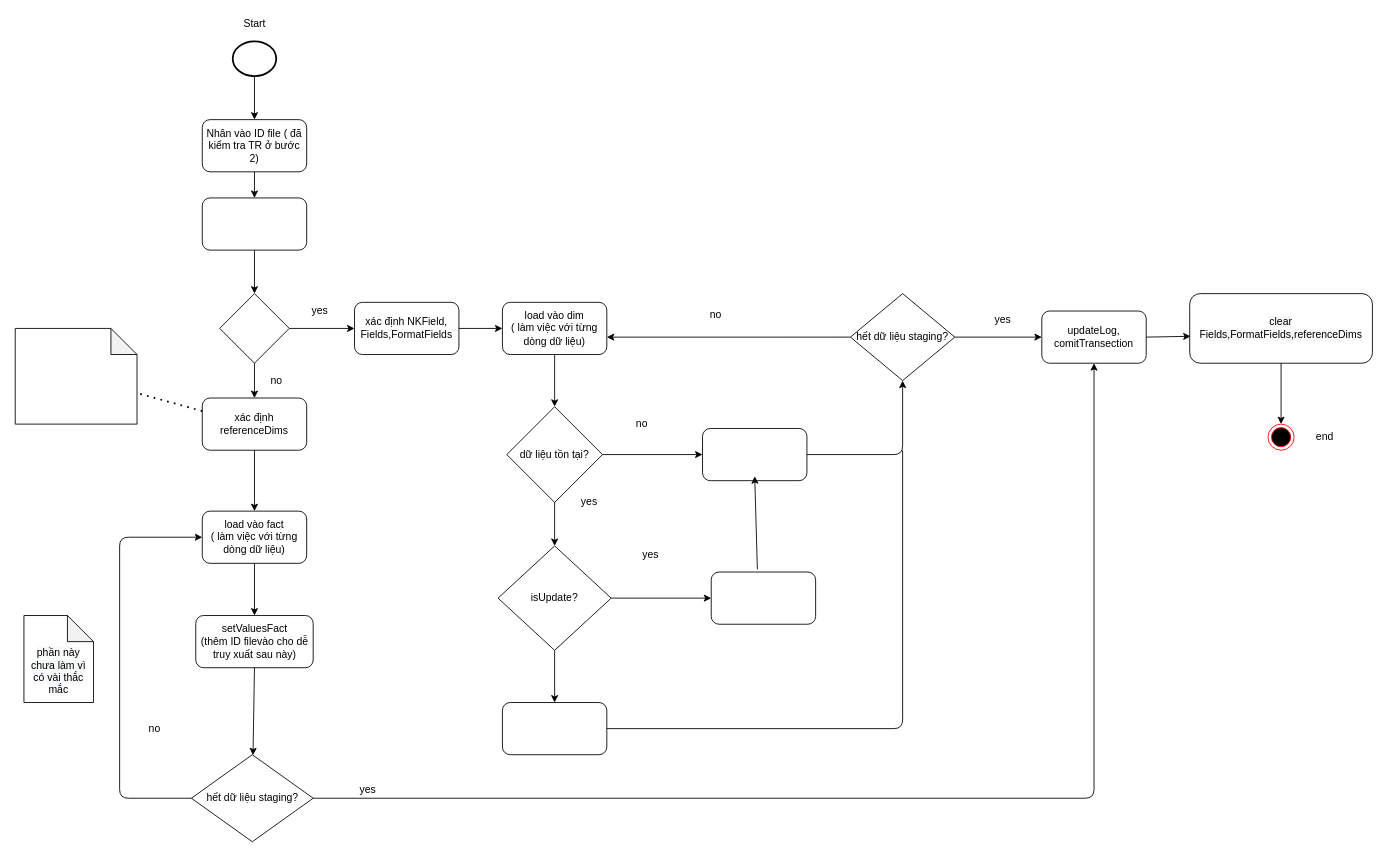
Image size: 1388x857. Some labels were removed from this diagram. The shapes that lost their labels are listed below. From the top down, each one's box as (x1, y1, x2, y2) in pixels, then its label:
(201, 197, 307, 250): Xác định isDim và target table
(219, 293, 289, 363): isDim?
(14, 328, 137, 424): còn có các measurements nữa nhưng hiện giờ chư biết các áp dụng
(702, 428, 807, 481): (load 1 dòng mới) setValueDim
(710, 571, 816, 624): ( set dòng cũ hết hạn) setExpireDate
(502, 702, 607, 755): bỏ qua
